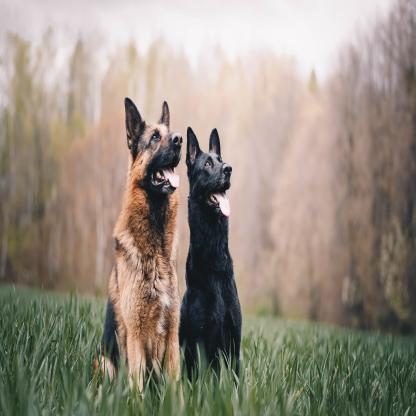german shepherd: (98, 90, 180, 393), (185, 123, 243, 384)
